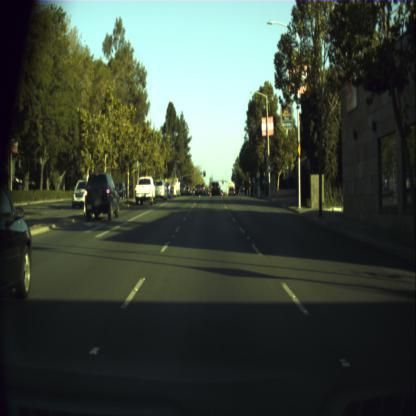Red: (203, 171, 205, 176), (222, 178, 223, 184)
